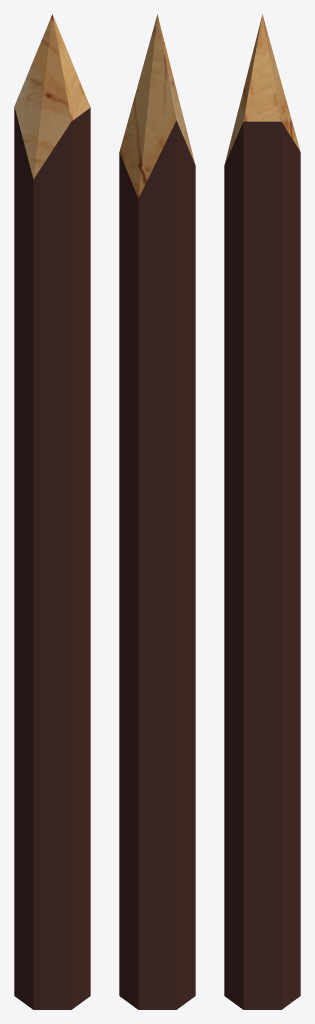
File: Stick_06.fbx
3 views of the same model, side by side, from view 1: azimuth 30°, elevation 25°; view 2: azimuth 150°, elevation 25°; view 3: azimuth 330°, elevation 25° (orthographic).
Visible parts, largest first — view 1: Stick_06; view 2: Stick_06; view 3: Stick_06.
Part boxes in pixels (x1,y1,x2,y2): Stick_06: (14, 14, 90, 1009); Stick_06: (119, 14, 195, 1009); Stick_06: (224, 14, 300, 1009).
Size of the model in its own units: 28.06 by 461 by 32.4.
